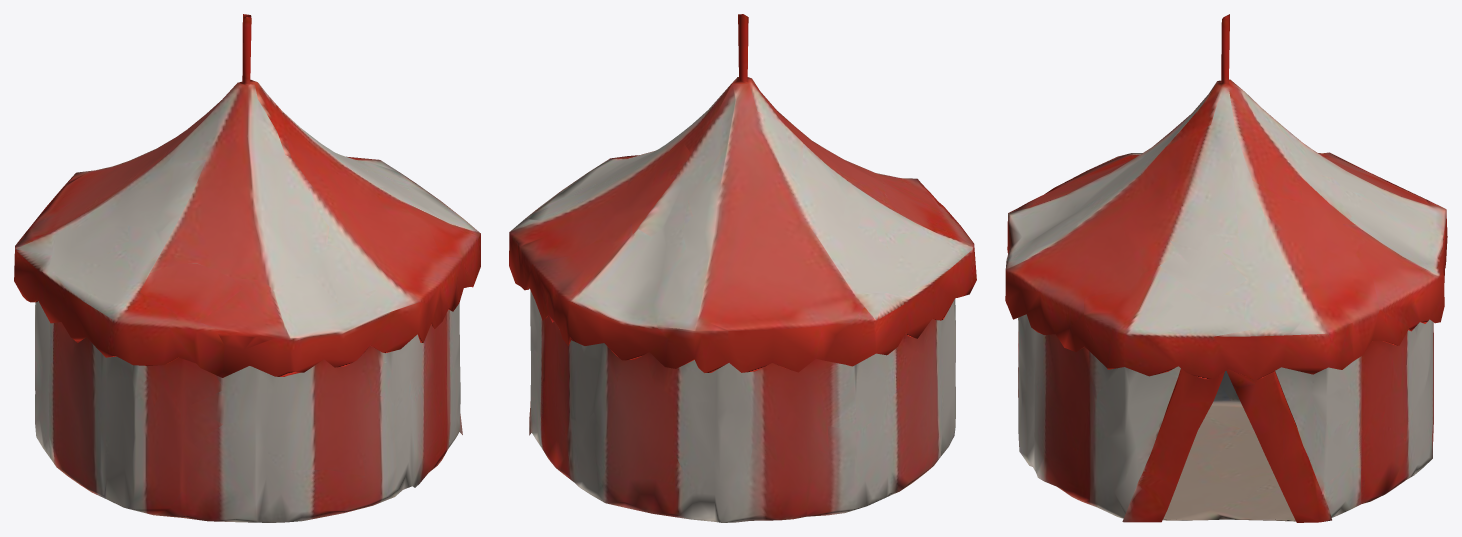
Rendered from circus-tent.glb.
3 renders of one model, left to right at view 1: azimuth 30°, elevation 25°; view 2: azimuth 150°, elevation 25°; view 3: azimuth 270°, elevation 25°, orthographic.
Parts seen in each view (by area): view 1: tripo_node_9f819015-212a-42bf-b533-5dd58ed1bba5; view 2: tripo_node_9f819015-212a-42bf-b533-5dd58ed1bba5; view 3: tripo_node_9f819015-212a-42bf-b533-5dd58ed1bba5.
Part boxes in pixels (<box>): tripo_node_9f819015-212a-42bf-b533-5dd58ed1bba5: <box>14,14,480,522</box>; tripo_node_9f819015-212a-42bf-b533-5dd58ed1bba5: <box>509,14,976,522</box>; tripo_node_9f819015-212a-42bf-b533-5dd58ed1bba5: <box>1005,14,1447,522</box>.
Bounding box in the file's own units: 0.9283 × 1 × 0.94.
1 material, 1 textured.
